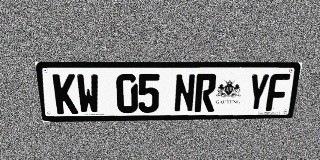0: (116, 74, 138, 113)
5: (138, 74, 160, 113)
F: (265, 73, 290, 111)
K: (52, 74, 78, 114)
N: (174, 74, 196, 112)
R: (194, 74, 217, 112)
W: (76, 74, 100, 114)
Y: (246, 74, 270, 111)
